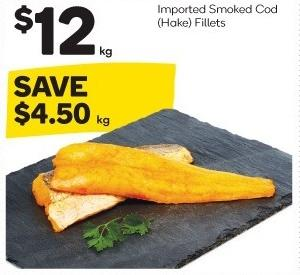description_block: (153, 2, 288, 32)
price_main: (6, 2, 120, 60)
product_image_block: (7, 141, 292, 269)
promo_text_block: (5, 62, 189, 137)
